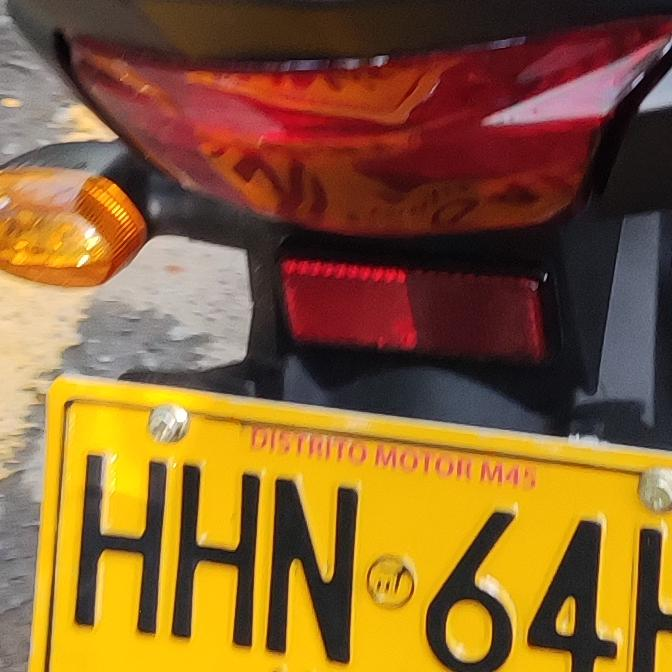plates: (29, 386, 672, 672)
